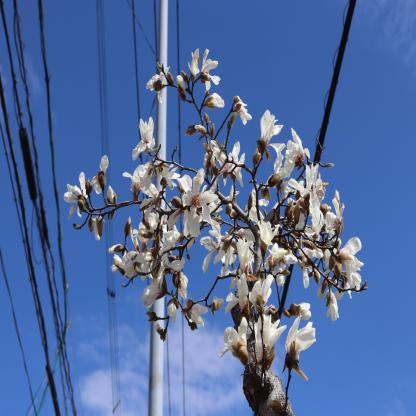Mokuren: (64, 46, 368, 384)
